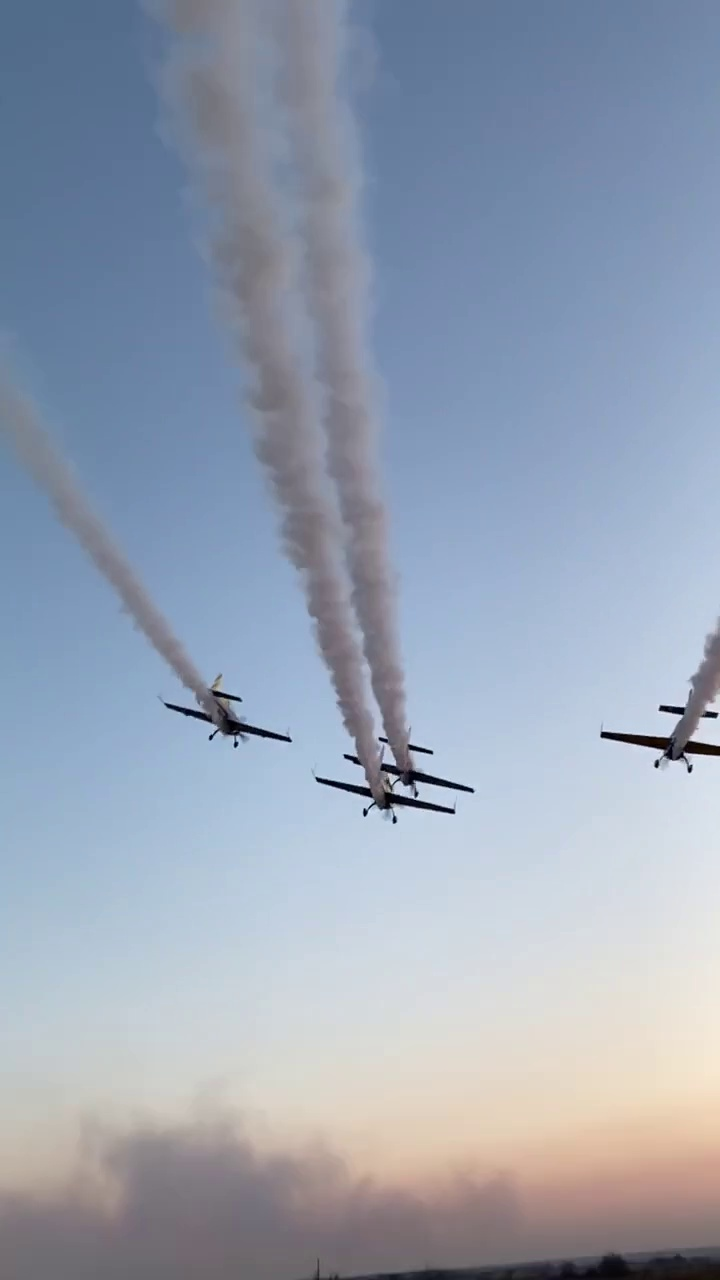plane: (600, 694, 720, 770), (162, 688, 294, 750), (315, 771, 454, 824), (340, 740, 478, 790)
